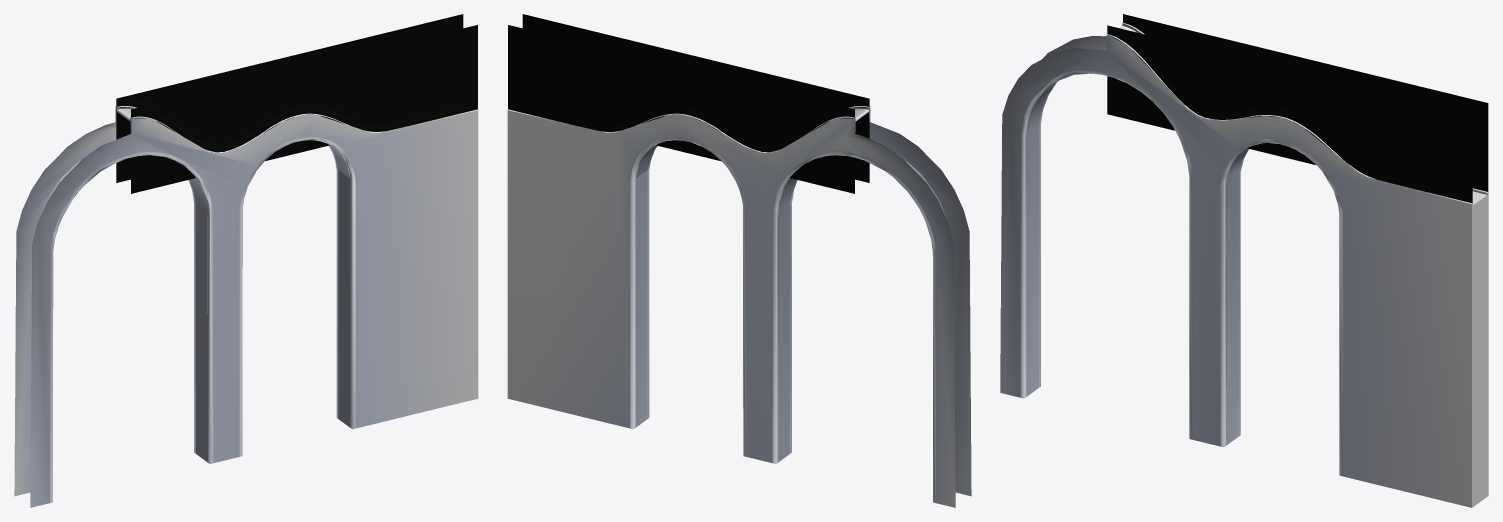
File: map_capBridge.fbx
The picture shows the model from 3 angles, left to right: view 1: azimuth 30°, elevation 25°; view 2: azimuth 150°, elevation 25°; view 3: azimuth 330°, elevation 25°; orthographic projection. The views are drawn at different scales.
Parts seen in each view (by area): view 1: wall, fence, border; view 2: wall, fence, border; view 3: wall, fence, border.
Part boxes in pixels (x1,y1,x2,y2): wall: (14, 107, 478, 507); fence: (116, 14, 477, 193); border: (37, 106, 477, 502); wall: (507, 107, 971, 507); fence: (508, 14, 869, 193); border: (508, 106, 948, 502); wall: (1000, 23, 1488, 507); fence: (1107, 14, 1488, 203); border: (1020, 22, 1487, 476).
Size of the model in its own units: 9819 by 7816 by 610.
